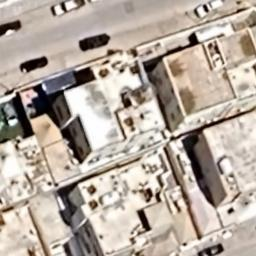truck: (194, 2, 224, 20)
unknown: (73, 29, 115, 53), (14, 54, 54, 76), (52, 2, 86, 18)
van: (194, 240, 226, 256)
